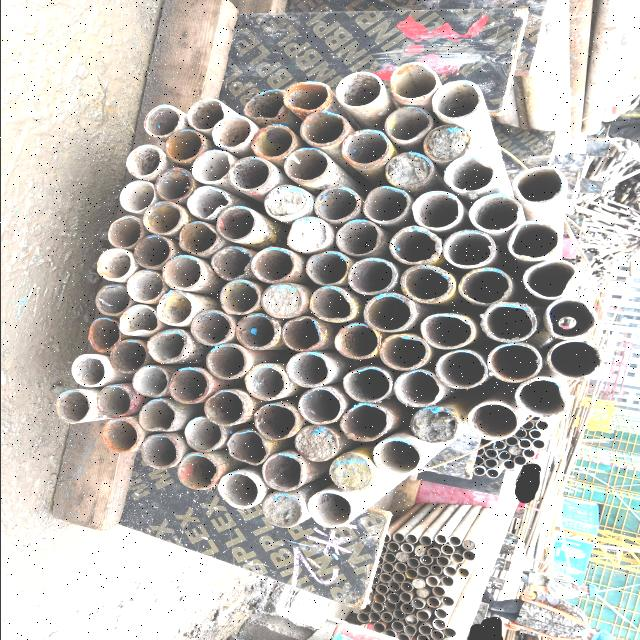pipe: (545, 340, 609, 379), (429, 76, 485, 120), (507, 220, 561, 264), (544, 299, 598, 342), (481, 300, 537, 340), (512, 164, 564, 207), (434, 348, 486, 391), (391, 57, 438, 104), (460, 401, 515, 441), (489, 344, 541, 386), (376, 432, 424, 477), (339, 127, 388, 171), (419, 122, 472, 162), (526, 260, 578, 300), (468, 194, 517, 236), (389, 228, 443, 266), (514, 378, 566, 417), (334, 68, 382, 110), (348, 256, 397, 296), (448, 156, 496, 196), (375, 335, 428, 371), (382, 150, 429, 190), (446, 230, 494, 269), (422, 312, 471, 350), (393, 369, 443, 406), (384, 104, 428, 146), (300, 109, 346, 149), (329, 452, 375, 492), (462, 267, 509, 306), (364, 184, 411, 223), (307, 490, 353, 529), (96, 418, 140, 458), (310, 284, 355, 323), (364, 294, 410, 332), (110, 176, 156, 214), (214, 472, 262, 508), (208, 339, 248, 382), (300, 387, 344, 426), (123, 140, 168, 178), (336, 323, 382, 360), (166, 366, 212, 403), (282, 148, 332, 182), (336, 218, 378, 258), (412, 403, 456, 441), (316, 182, 360, 220), (405, 268, 454, 302), (262, 186, 311, 220), (294, 426, 339, 463), (342, 406, 388, 442), (174, 218, 220, 254), (305, 247, 348, 285), (247, 125, 295, 159), (185, 186, 230, 222), (412, 190, 452, 230), (214, 112, 254, 152), (191, 147, 233, 185), (288, 352, 332, 388), (144, 329, 188, 365), (346, 367, 392, 401), (228, 157, 274, 191), (255, 404, 295, 443), (217, 281, 260, 317), (175, 454, 218, 490), (109, 337, 148, 376), (245, 82, 285, 120), (140, 434, 178, 474), (163, 253, 204, 290), (288, 216, 330, 252), (236, 314, 278, 350), (191, 311, 233, 347), (166, 126, 208, 162), (202, 390, 245, 425), (144, 199, 184, 236), (262, 285, 304, 320), (217, 208, 260, 242), (254, 249, 294, 285), (278, 317, 318, 353), (90, 281, 130, 317), (92, 246, 134, 280), (284, 79, 328, 111), (155, 167, 194, 203), (118, 304, 159, 338), (69, 353, 108, 388), (142, 102, 182, 136), (212, 250, 254, 282), (262, 454, 298, 491), (187, 94, 224, 130), (262, 494, 300, 529), (134, 235, 170, 271), (185, 418, 223, 452), (132, 364, 170, 398), (156, 292, 193, 326), (229, 431, 267, 464), (104, 215, 142, 248), (54, 390, 88, 426), (250, 362, 282, 400), (97, 384, 130, 420), (87, 316, 120, 352), (126, 271, 162, 303), (139, 403, 176, 431), (449, 552, 464, 564), (410, 598, 424, 610), (399, 580, 413, 592), (512, 428, 528, 438), (418, 624, 432, 635), (390, 621, 404, 632), (483, 458, 498, 468), (455, 568, 470, 578), (446, 536, 461, 546), (430, 564, 442, 576), (413, 545, 425, 557), (383, 552, 395, 564), (405, 568, 417, 580), (356, 612, 368, 624), (520, 420, 534, 430), (508, 446, 522, 456), (492, 440, 506, 450), (461, 540, 475, 550), (462, 552, 476, 562), (442, 566, 456, 576), (440, 577, 454, 587), (443, 628, 457, 638), (433, 608, 447, 618), (432, 620, 446, 630), (430, 630, 444, 640), (440, 545, 454, 555), (431, 586, 445, 596), (416, 611, 430, 621), (416, 588, 430, 598), (372, 623, 386, 633), (372, 594, 386, 604), (382, 602, 397, 611), (502, 460, 514, 471), (498, 450, 510, 461), (473, 466, 485, 477), (434, 534, 446, 545), (416, 566, 428, 577), (404, 615, 416, 626), (392, 572, 404, 583), (376, 583, 388, 594), (368, 612, 380, 623), (518, 439, 531, 449), (441, 596, 454, 606), (426, 598, 439, 608), (386, 542, 399, 552), (403, 626, 416, 636), (399, 593, 412, 603), (528, 430, 540, 440), (505, 436, 517, 446), (485, 448, 497, 458), (418, 536, 430, 546), (404, 534, 416, 544), (392, 533, 404, 543), (426, 548, 438, 558), (436, 556, 448, 566), (426, 577, 438, 587), (419, 555, 431, 565), (400, 543, 412, 553), (406, 558, 418, 568), (394, 562, 406, 572), (381, 563, 393, 573), (412, 579, 424, 589), (388, 582, 400, 592), (400, 604, 412, 614), (392, 610, 404, 620), (382, 630, 397, 638), (386, 594, 398, 604), (380, 612, 392, 622), (535, 421, 548, 430), (378, 574, 391, 583), (358, 605, 371, 614), (473, 456, 484, 466), (486, 469, 498, 478), (522, 450, 535, 458), (476, 446, 486, 456), (396, 552, 406, 562), (531, 441, 545, 448), (513, 457, 525, 465), (372, 604, 384, 612), (526, 415, 541, 421), (367, 586, 376, 596), (395, 634, 409, 640), (376, 556, 384, 566), (374, 566, 382, 576), (371, 576, 379, 586), (366, 595, 374, 605), (382, 534, 389, 544), (415, 635, 429, 640), (379, 545, 386, 555)
